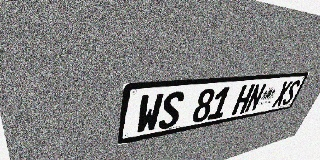1: (207, 86, 233, 120)
8: (191, 88, 217, 123)
H: (231, 84, 255, 115)
N: (244, 83, 267, 113)
S: (157, 91, 186, 130), (281, 80, 302, 106)
W: (135, 93, 164, 134)
X: (271, 81, 293, 107)
